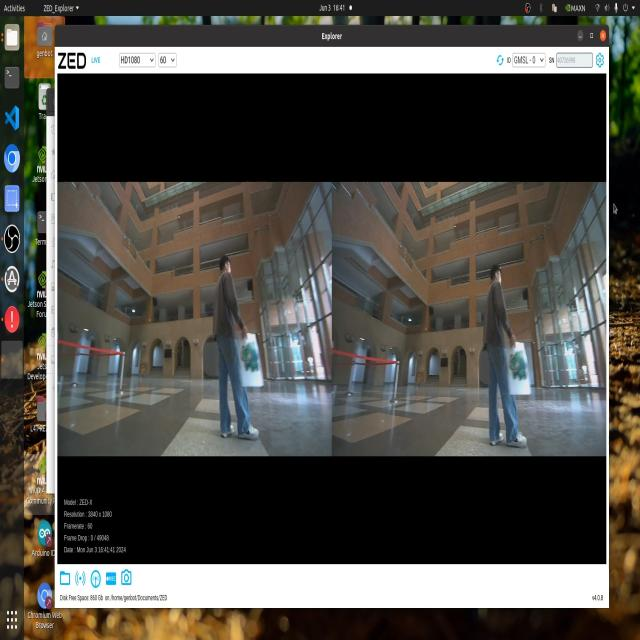green: (508, 342, 533, 398), (245, 347, 263, 383)
